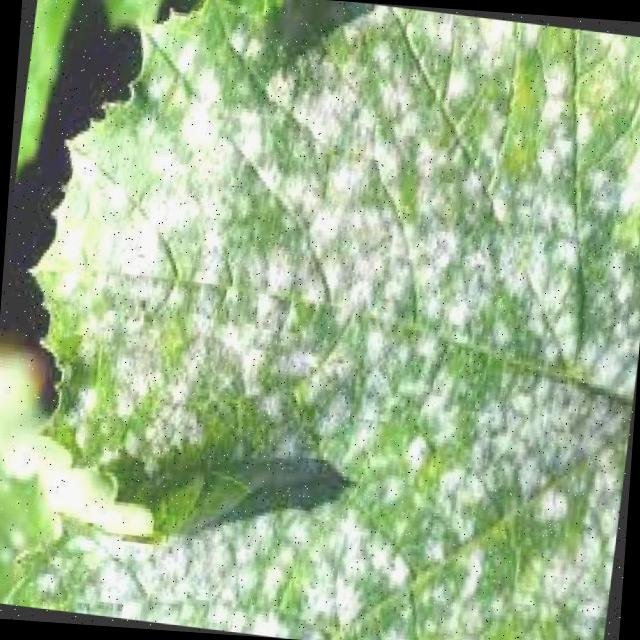Powdery_Mildew: (10, 16, 640, 640)
